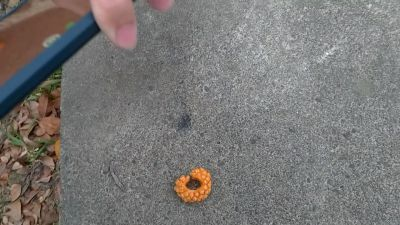eggs: (171, 166, 214, 203)
